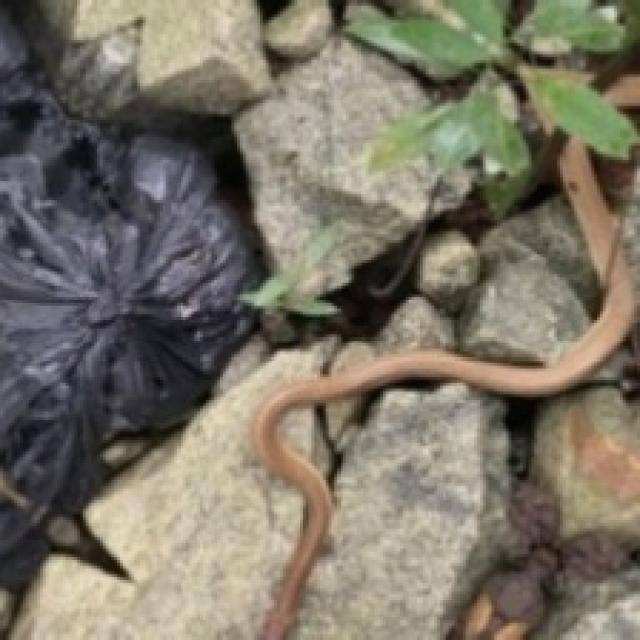king cobra: (251, 131, 631, 637)
